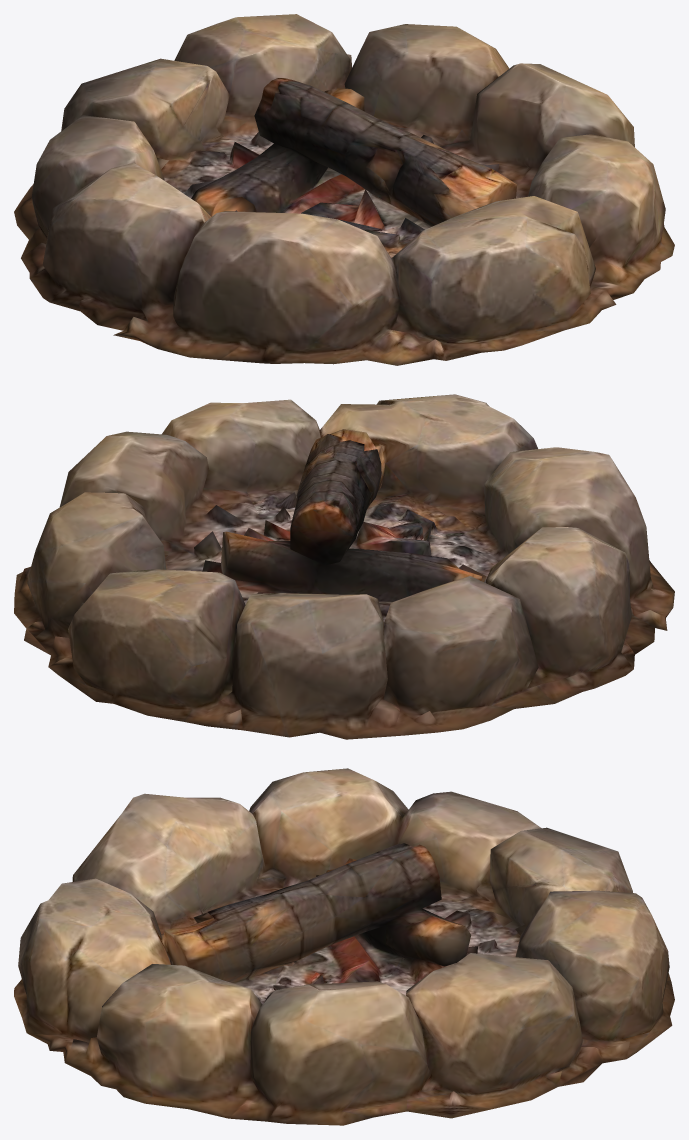
File: prop-campfire-ring-v2-desktop.glb
The picture shows the model from 3 angles, top to bottom: view 1: azimuth 30°, elevation 25°; view 2: azimuth 150°, elevation 25°; view 3: azimuth 270°, elevation 25°; orthographic projection.
Visible parts, largest first — view 1: tripo_node_87fe188c-17d4-44e6-b6db-b6047d940803; view 2: tripo_node_87fe188c-17d4-44e6-b6db-b6047d940803; view 3: tripo_node_87fe188c-17d4-44e6-b6db-b6047d940803.
Boxes of the visible parts, bbox=[...] form: tripo_node_87fe188c-17d4-44e6-b6db-b6047d940803: bbox=[14, 14, 674, 365]; tripo_node_87fe188c-17d4-44e6-b6db-b6047d940803: bbox=[14, 394, 674, 739]; tripo_node_87fe188c-17d4-44e6-b6db-b6047d940803: bbox=[14, 768, 674, 1125].
Size of the model in its own units: 0.9723 by 0.225 by 0.9647.
Materials: 1 (1 with a texture image).
